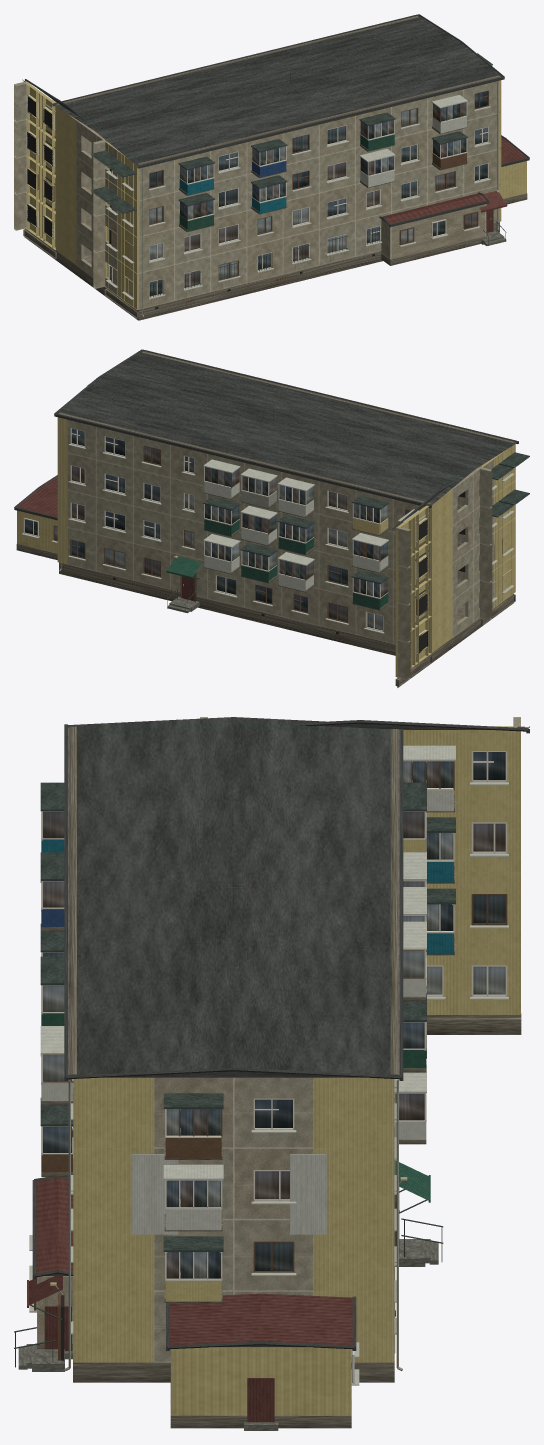
The model's file is res_block_b.glb.
The picture shows the model from 3 angles, top to bottom: view 1: azimuth 30°, elevation 25°; view 2: azimuth 150°, elevation 25°; view 3: azimuth 270°, elevation 25°; orthographic projection. The views are drawn at different scales.
Visible parts, largest first — view 1: res_block_b; view 2: res_block_b; view 3: res_block_b.
Boxes of the visible parts, x1,y1,x2,y2 form: res_block_b: (14,14,529,320); res_block_b: (14,349,529,687); res_block_b: (14,717,529,1430).
Size of the model in its own units: 34.93 by 13.28 by 18.32.
5 materials, 3 textured.
